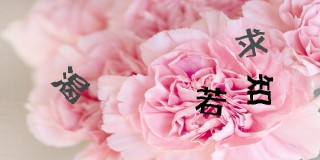求: (235, 28, 268, 57)
渴: (52, 65, 90, 104)
知: (246, 73, 274, 106)
若: (195, 86, 226, 116)
